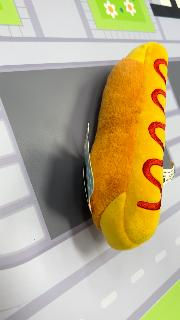hotdog: (86, 41, 170, 251)
